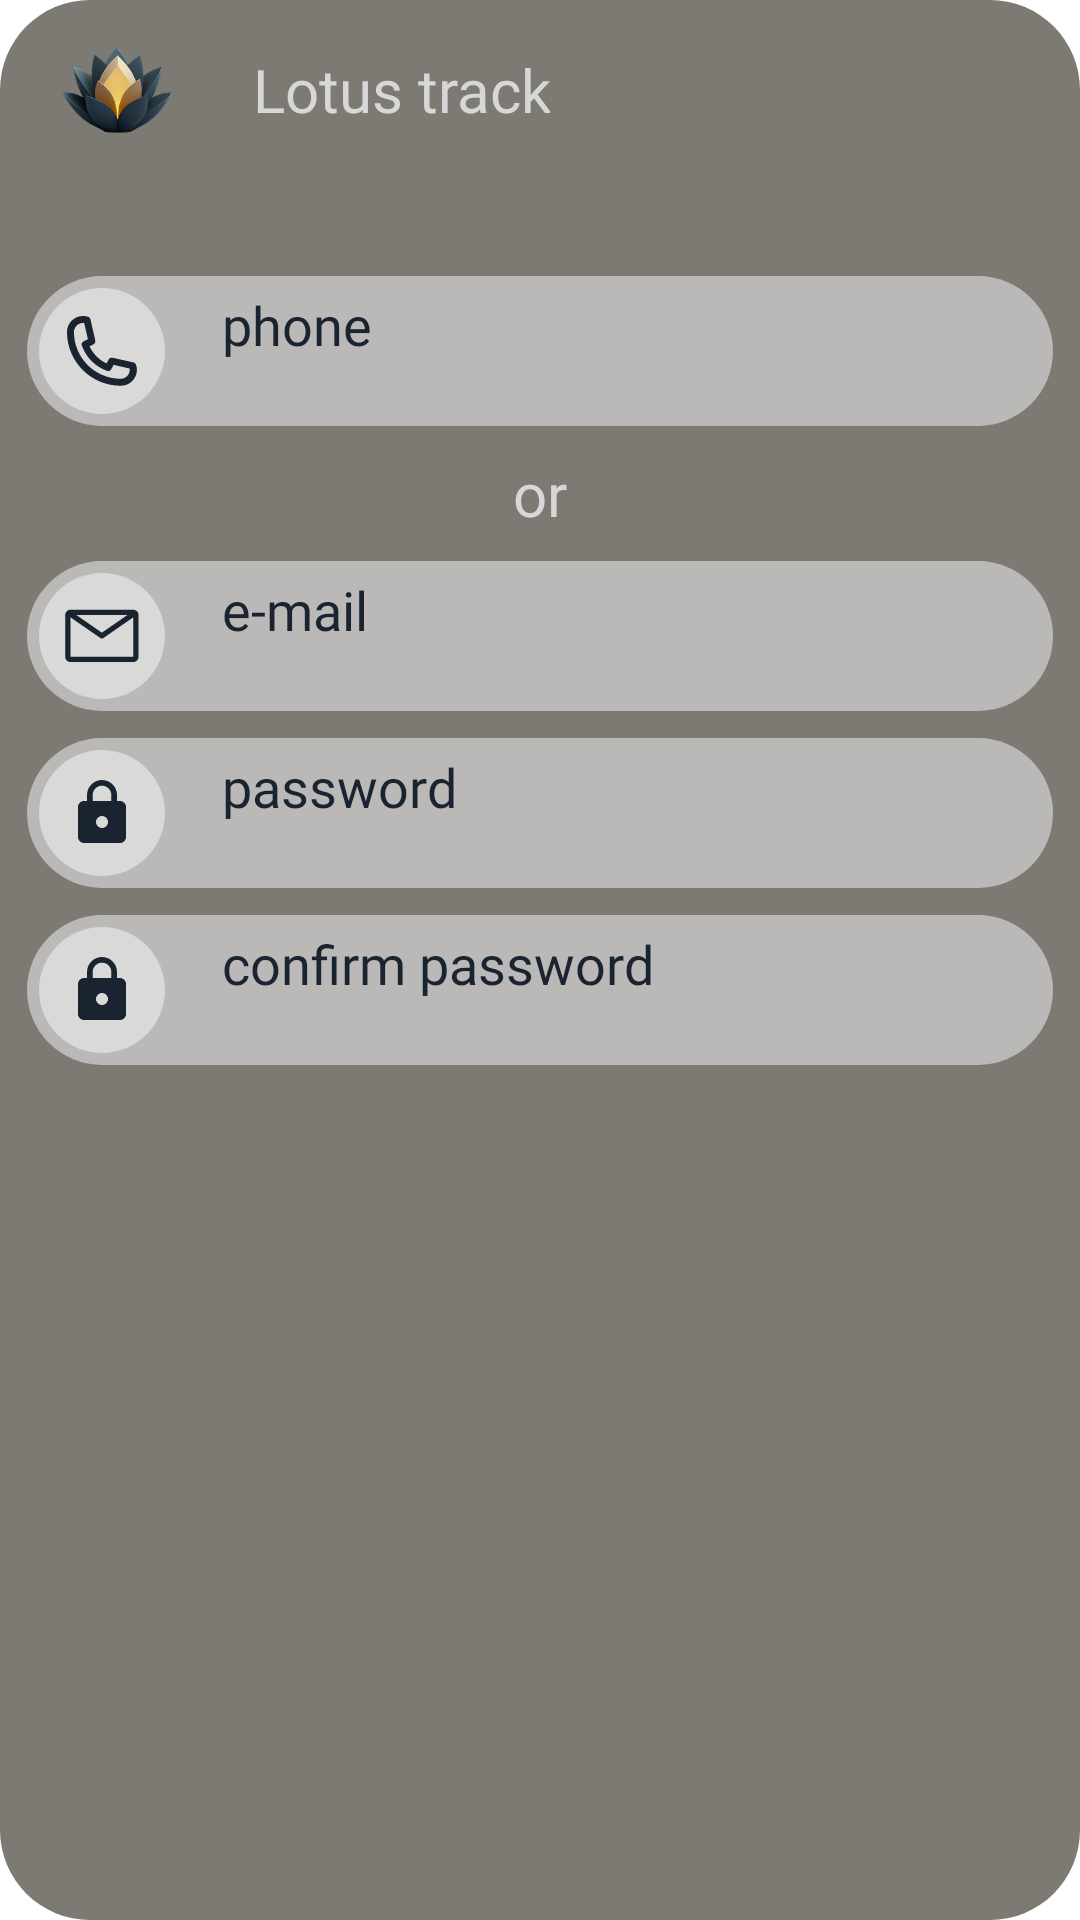

Where icons sit on this 1080 x 1920 app screen, as (x1, y1, x2, y2):
lock: (78, 780, 126, 843), (78, 957, 126, 1020)
